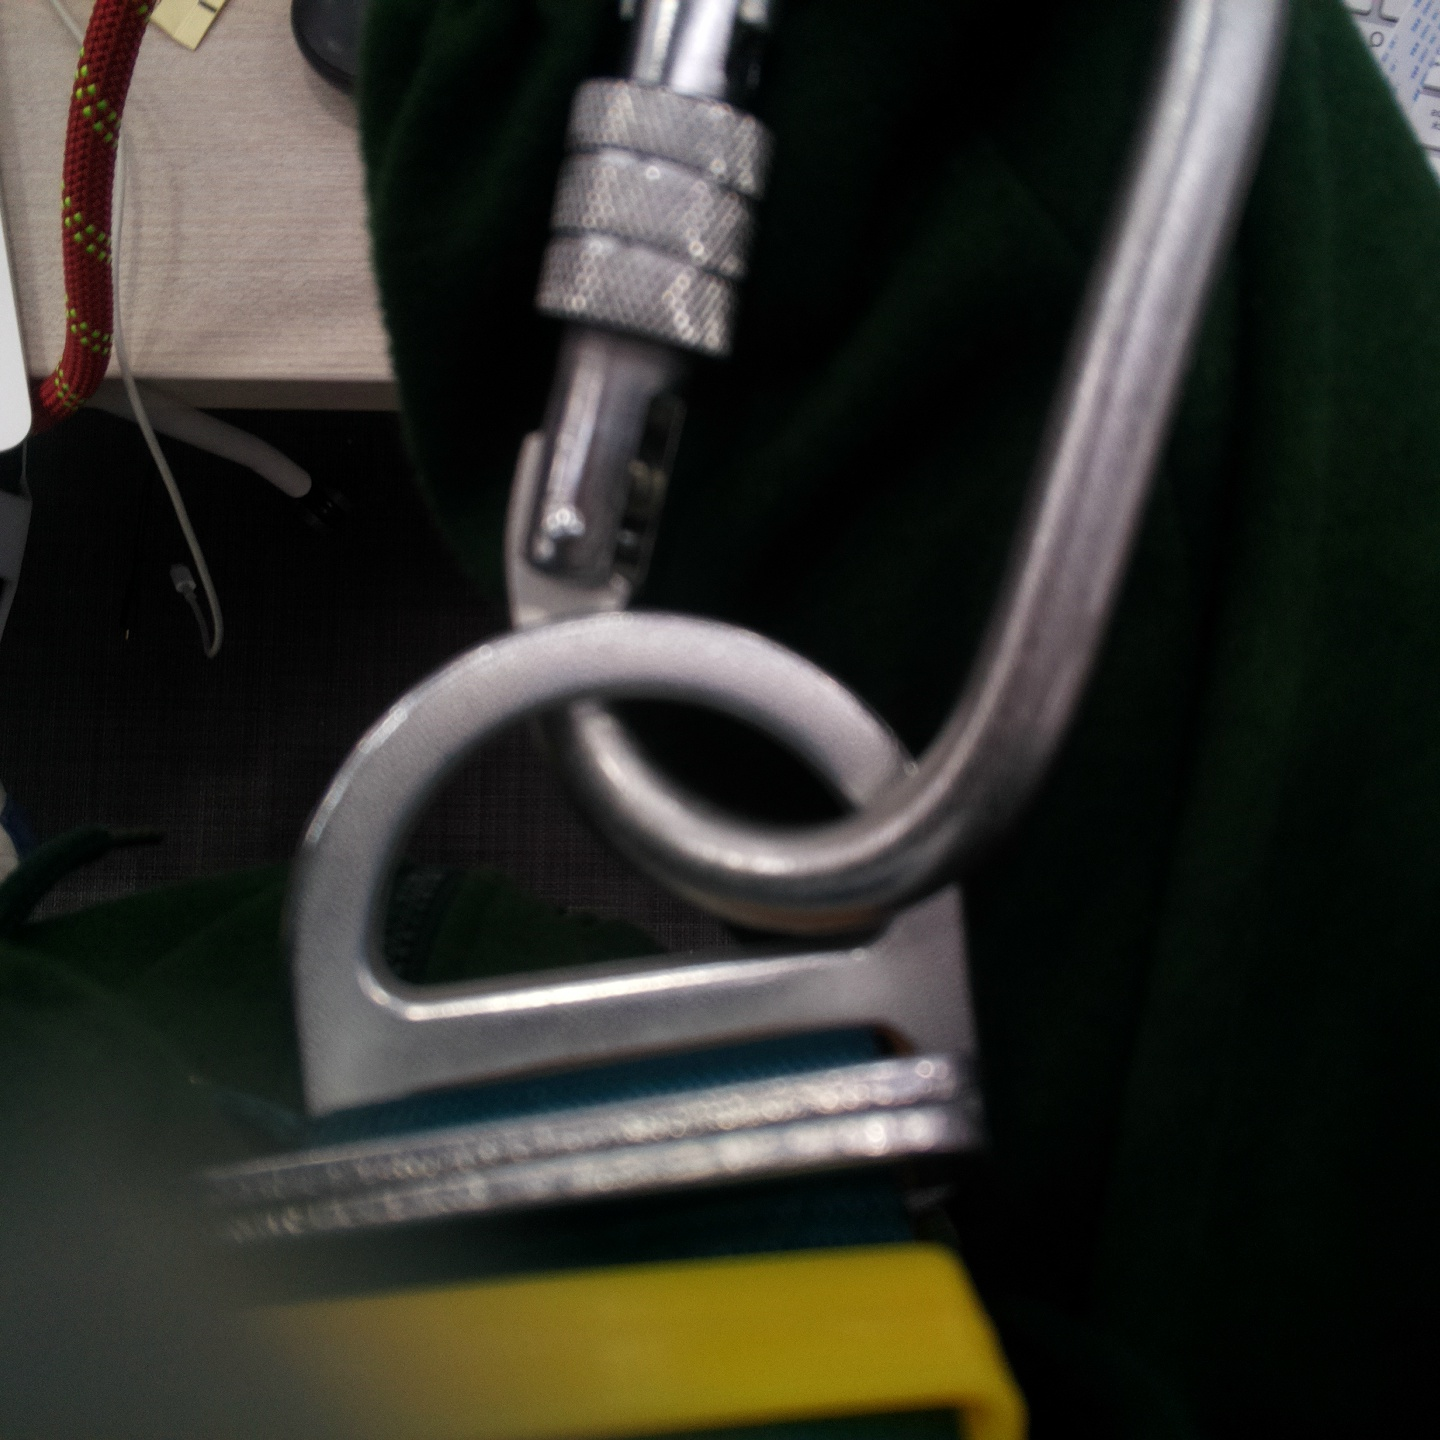SUCCESS: (524, 70, 1280, 595)
